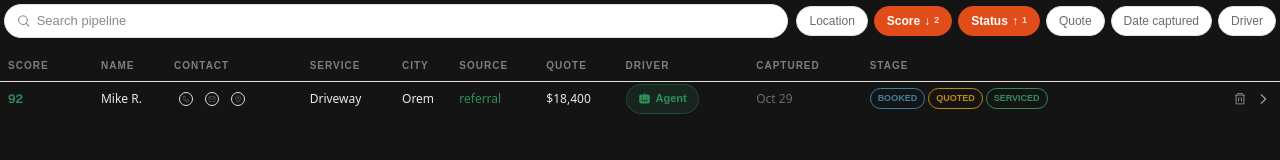
LeadsTable Driver column › reverts the pill and shows an error when the PATCH fails
Click the button with test id "driver-pill-l1".
click(662, 98)  # box [626,84,699,114]
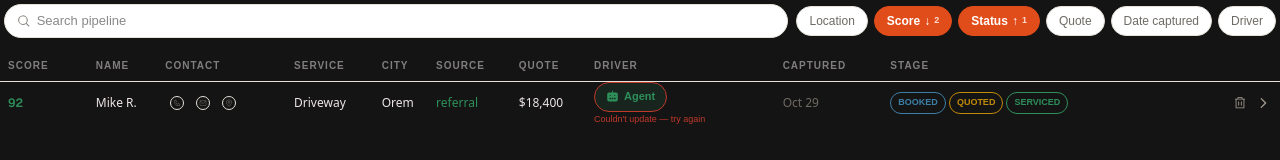
Check: the message "Couldn't update — try again" is shown, box [594,114,705,124]
